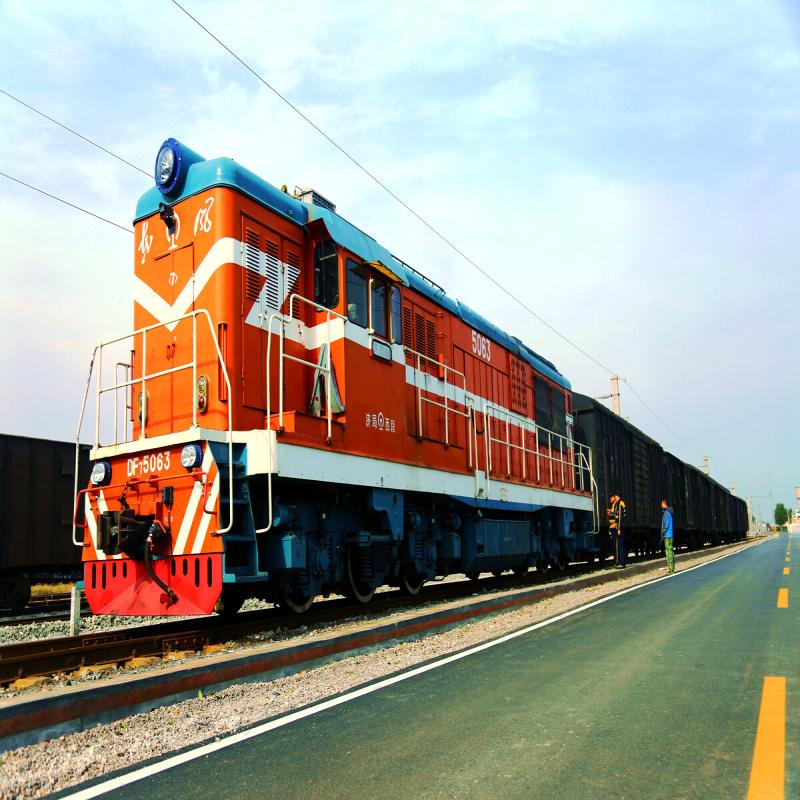train: (33, 90, 601, 682)
